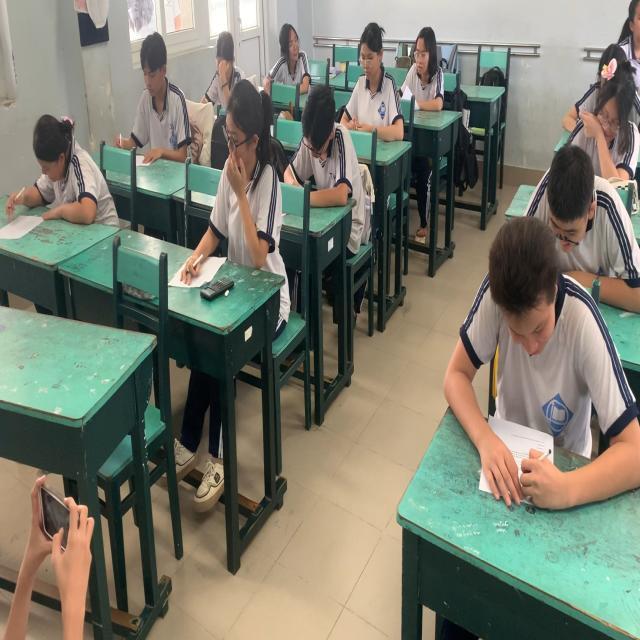cheating: (268, 12, 306, 108)
not_cheating: (449, 216, 598, 492), (522, 136, 626, 278), (206, 85, 285, 271), (19, 85, 114, 229), (135, 19, 194, 171), (293, 81, 352, 205), (345, 33, 404, 153), (579, 74, 633, 181), (404, 12, 447, 112), (204, 26, 238, 101)
